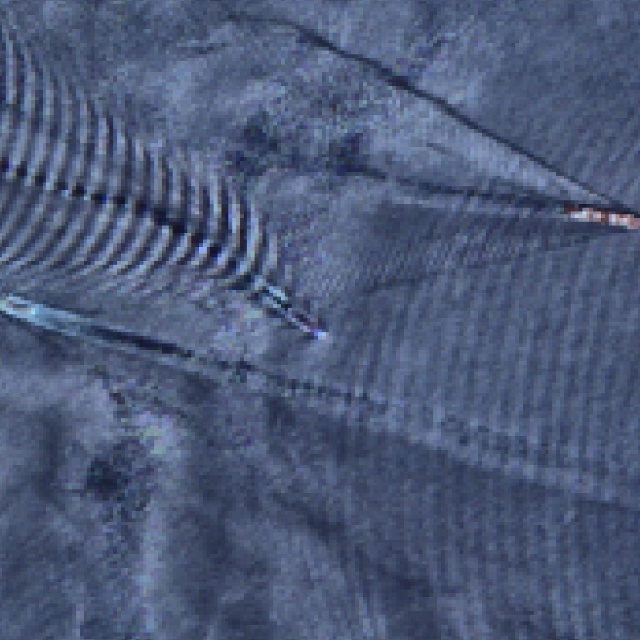wake: (51, 116, 369, 394)
